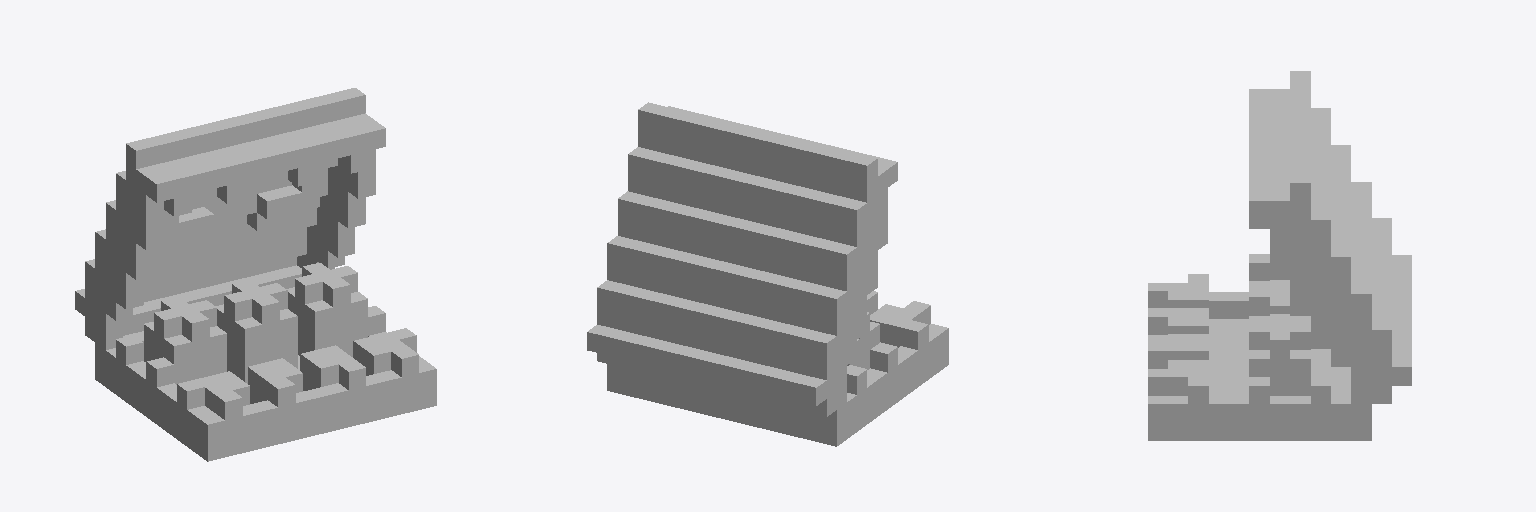
The model's file is chocolateBoss.obj.
3 renders of one model, left to right at view 1: azimuth 30°, elevation 25°; view 2: azimuth 150°, elevation 25°; view 3: azimuth 270°, elevation 25°, orthographic.
Bounding box in the file's own units: 13 × 14 × 13.